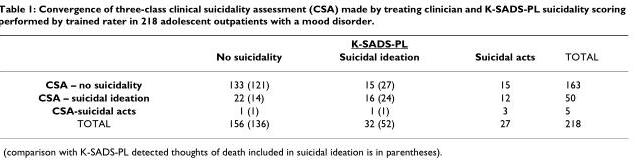table: (37, 36, 597, 128)
table column: (37, 36, 181, 128), (309, 36, 446, 128), (181, 36, 309, 128), (446, 36, 549, 128), (549, 36, 597, 128)
table column header: (37, 36, 597, 69)
table row: (37, 69, 597, 90), (37, 49, 597, 69), (37, 36, 597, 49), (37, 90, 597, 103), (37, 103, 597, 116), (37, 116, 597, 128)
table spanning cell: (309, 36, 446, 69), (181, 36, 309, 69), (446, 36, 549, 69), (549, 36, 597, 69)
